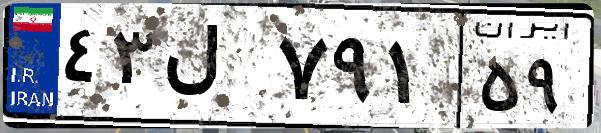1: (385, 28, 445, 110)
3: (110, 28, 158, 98)
4: (57, 26, 110, 100)
5: (475, 38, 525, 113)
7: (270, 28, 330, 110)
9: (330, 28, 385, 110), (525, 38, 570, 115)
ل: (158, 20, 270, 120)
